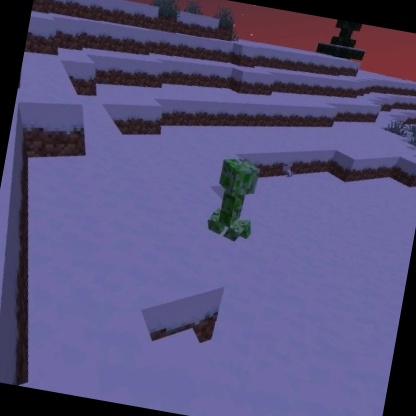creeper: (201, 152, 265, 247)
